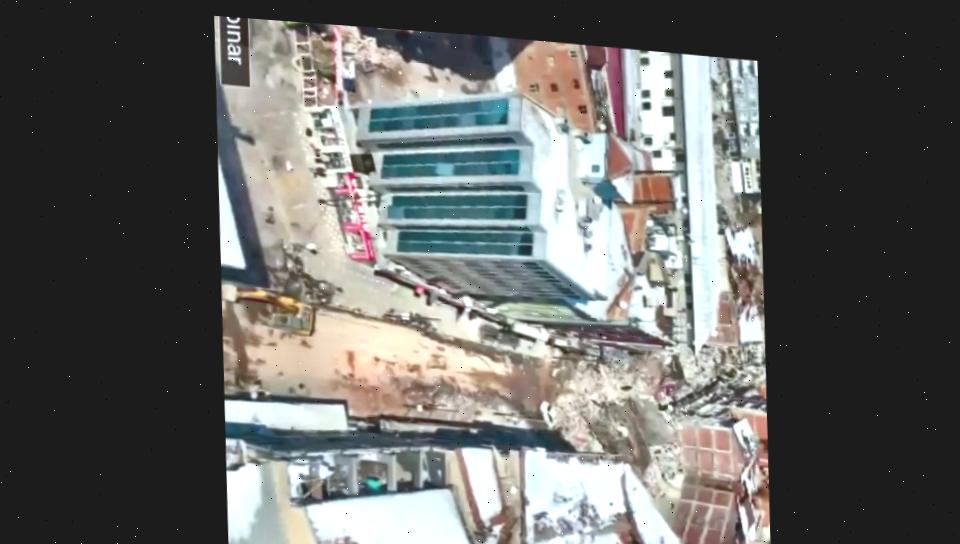kapali: (520, 349, 678, 426), (675, 340, 765, 398)
